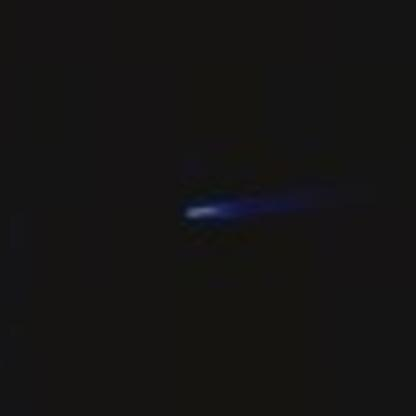ship: (179, 201, 225, 221)
